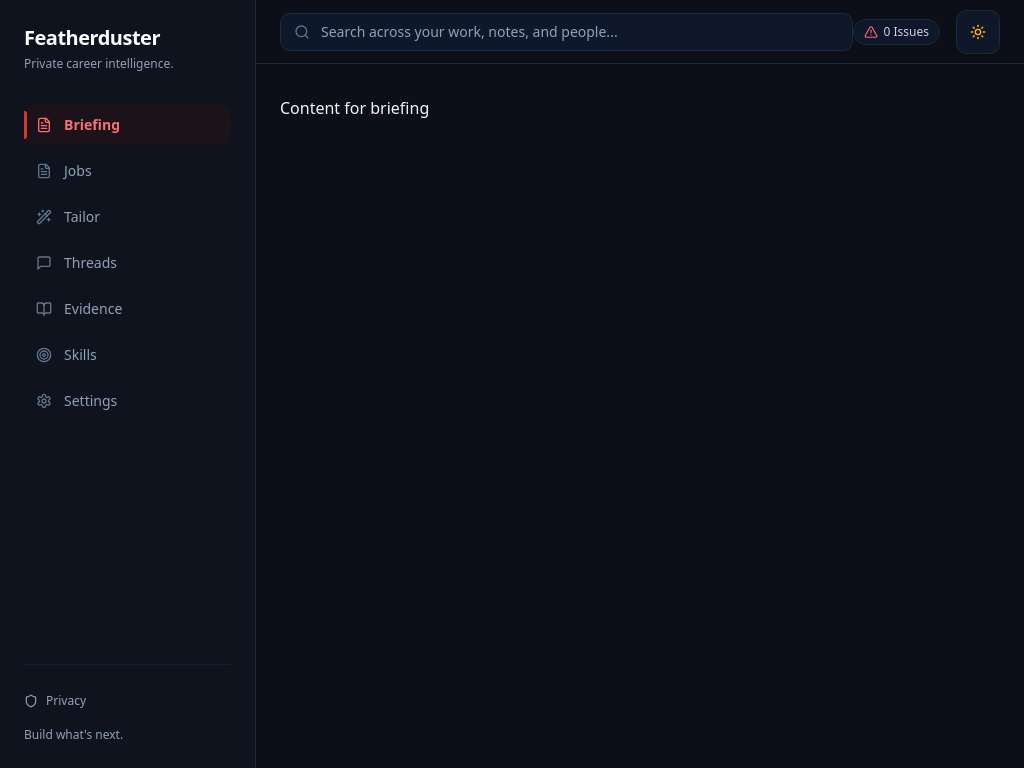
Test: Desk Layout and Navigation Shell › switches tabs on click and updates active styling with vermilion indicator
Click the link "Threads".
click(76, 262)  # box [36,252,117,272]
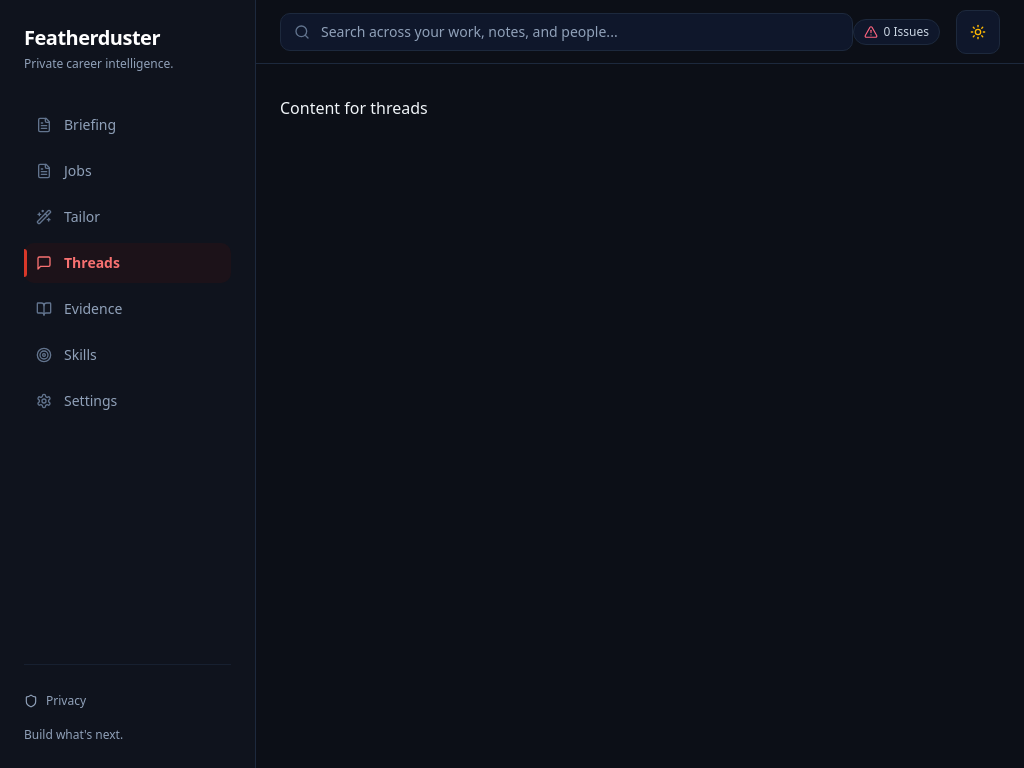
Now the text with test id "active-content" reads "Content for threads", box [280,97,428,119]
Click the link "Evidence".
click(79, 308)  # box [36,298,122,318]
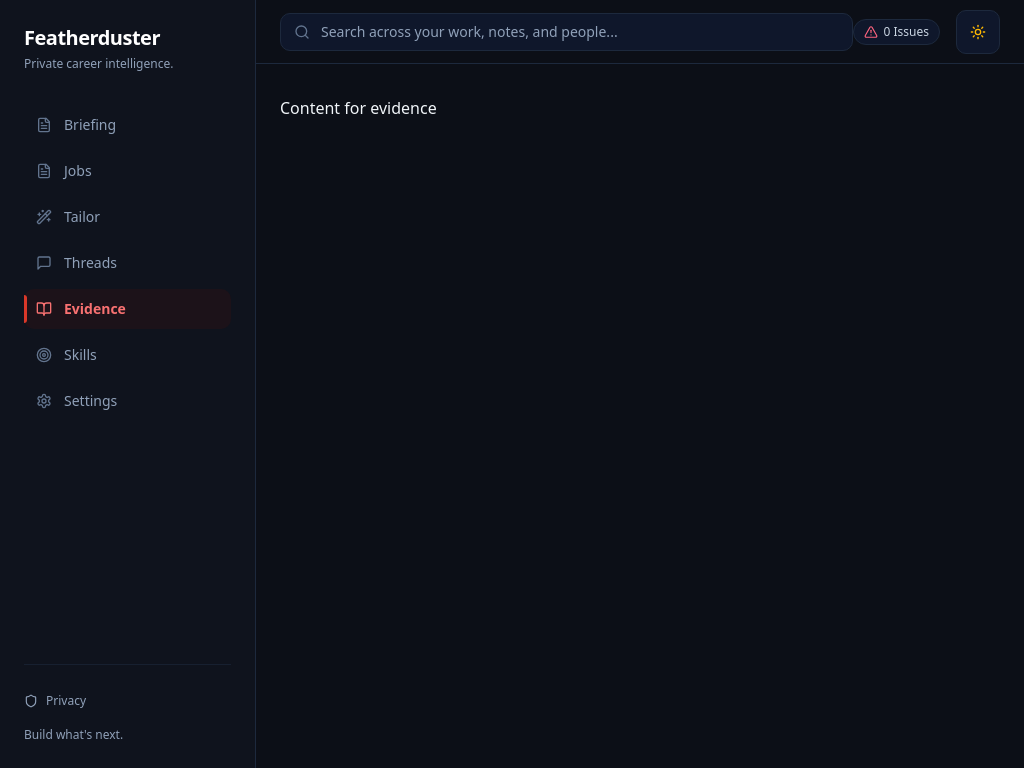
Now the text with test id "active-content" reads "Content for evidence", box [280,97,437,119]
